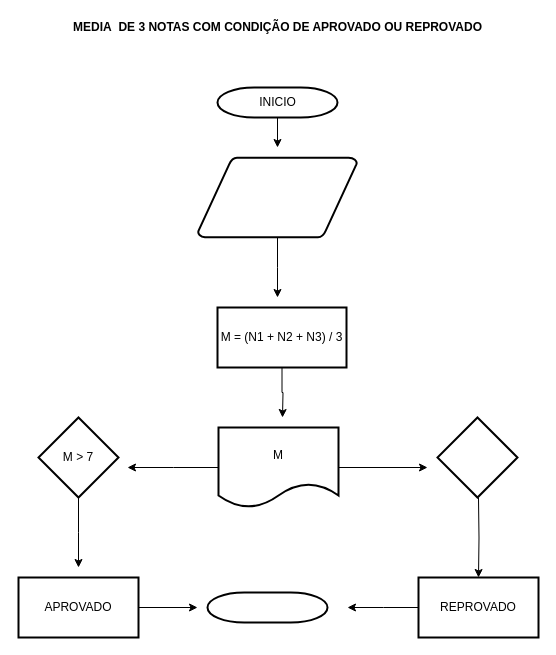
Some shapes in this 556 by 655 pixel diagram are drawn without their labels. Each missing label, with the box of its shape:
FIM: (206, 591, 328, 623)
M < 7: (436, 416, 518, 498)
N1, N2, N3: (196, 156, 358, 238)
